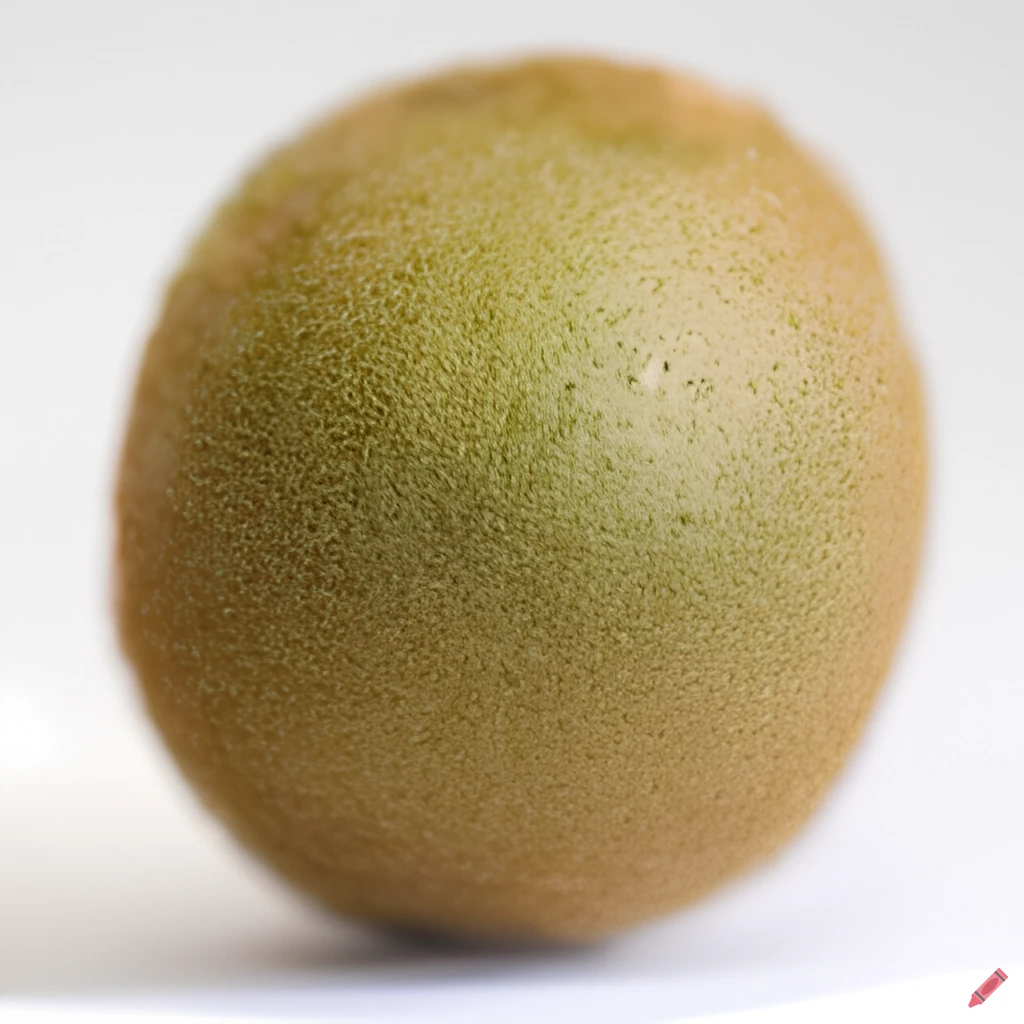Kiwi: (86, 38, 934, 964)
